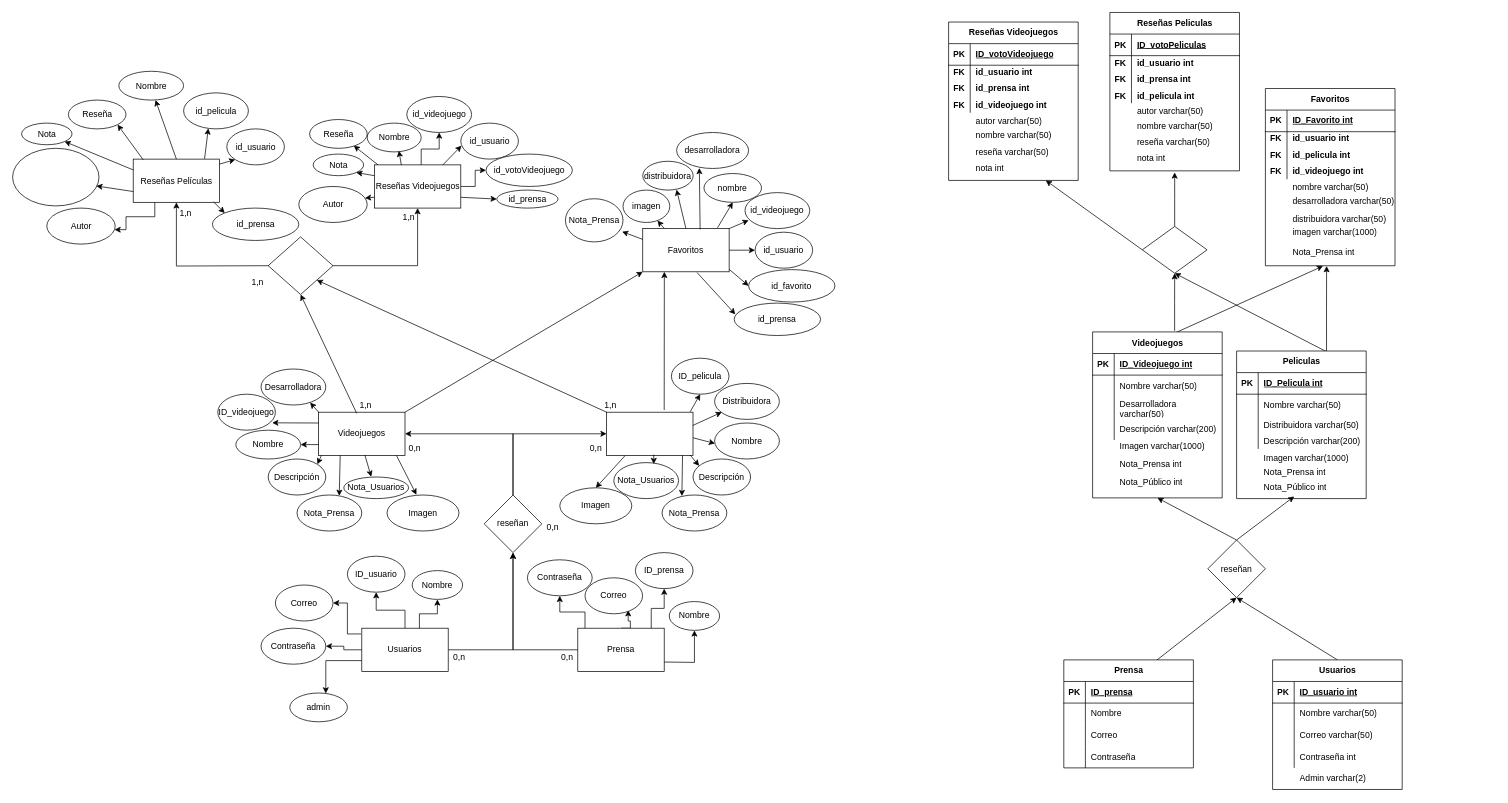
Image size: 1508x803. Some labels were removed from this diagram. Here are the shapes that lost their labels. From the top down, the centre of each, then its label:
At [55,177]: "id_votoPelicula".
At [300,265]: "se almacenan".
At [1174,249]: "se almacena".
At [649,433]: "Películas".
